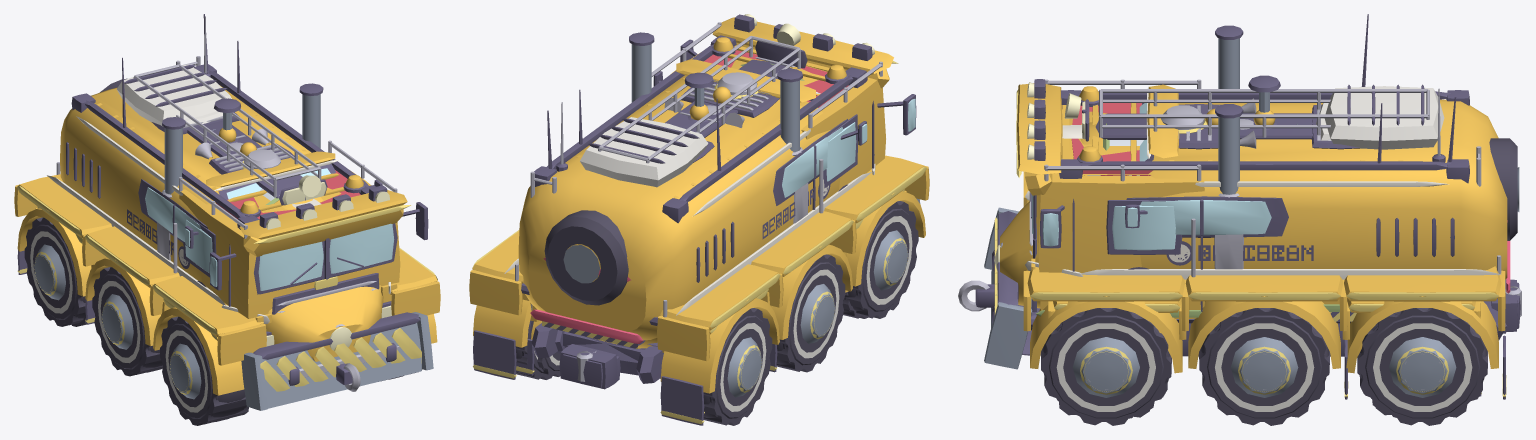
The model's file is landtrain.glb.
3 renders of one model, left to right at view 1: azimuth 30°, elevation 25°; view 2: azimuth 150°, elevation 25°; view 3: azimuth 270°, elevation 25°, orthographic. The views are drawn at different scales.
Visible parts, largest first — view 1: moonliner_hull, prospector, moonliner, prospector_cab, prospector_blade, moonliner_acPod, prospector_visor, prospector_screen1, prospector_screen-1, prospector_cabCorner, moonliner_wheel0_-1_tyre, moonliner_wheel1_-1_tyre (+55 smaller); view 2: moonliner_hull, prospector, moonliner, prospector_spare, moonliner_acPod, prospector_cab, prospector_visor, prospector_fender-1_2_lip-1, prospector_fender1_2_lip-1, prospector_blast_roofRail-1, moonliner_wheel0_-1_tyre, moonliner_wheel2_-1_tyre (+49 smaller); view 3: moonliner_hull, moonliner, prospector, prospector_cab, moonliner_acPod, moonliner_wheel1_1_tyre, moonliner_wheel0_1_tyre, moonliner_wheel2_1_tyre, moonliner_sideWin1, prospector_wheel2_1_hub, prospector_wheel0_1_hub, prospector_wheel1_1_hub (+42 smaller).
Part boxes in pixels (x1,y1,x2,y2): moonliner_hull: (60,85,383,361); prospector: (17,174,437,337); moonliner: (17,142,437,395); prospector_cab: (179,171,400,318); prospector_blade: (262,323,422,408); moonliner_acPod: (116,64,231,126); prospector_visor: (239,190,407,239); prospector_screen1: (329,223,394,273); prospector_screen-1: (258,241,323,290); prospector_cabCorner: (243,209,403,256); moonliner_wheel0_-1_tyre: (163,326,245,421); moonliner_wheel1_-1_tyre: (96,276,162,372); moonliner_hull: (518,75,840,340); prospector: (472,147,926,330); moonliner: (473,183,925,393); prospector_spare: (544,210,628,305); moonliner_acPod: (580,117,708,187); prospector_cab: (670,53,885,190); prospector_visor: (712,17,893,74); prospector_fender-1_2_lip-1: (657,315,710,360); prospector_fender1_2_lip-1: (469,270,522,315); prospector_blast_roofRail-1: (679,75,853,201); moonliner_wheel0_-1_tyre: (844,211,914,310); moonliner_wheel2_-1_tyre: (703,318,768,417); moonliner_hull: (1000,99,1507,308); moonliner: (1030,217,1498,368); prospector: (1027,193,1501,301); prospector_cab: (1036,109,1204,318); moonliner_acPod: (1324,86,1444,149); moonliner_wheel1_1_tyre: (1199,308,1329,416); moonliner_wheel0_1_tyre: (1041,308,1171,416); moonliner_wheel2_1_tyre: (1357,308,1487,416); moonliner_sideWin1: (1140,200,1271,235); prospector_wheel2_1_hub: (1389,337,1456,397); prospector_wheel0_1_hub: (1072,337,1139,397); prospector_wheel1_1_hub: (1231,337,1298,397).
Bounding box in the file's own units: 5.77 × 6.4 × 10.34.
